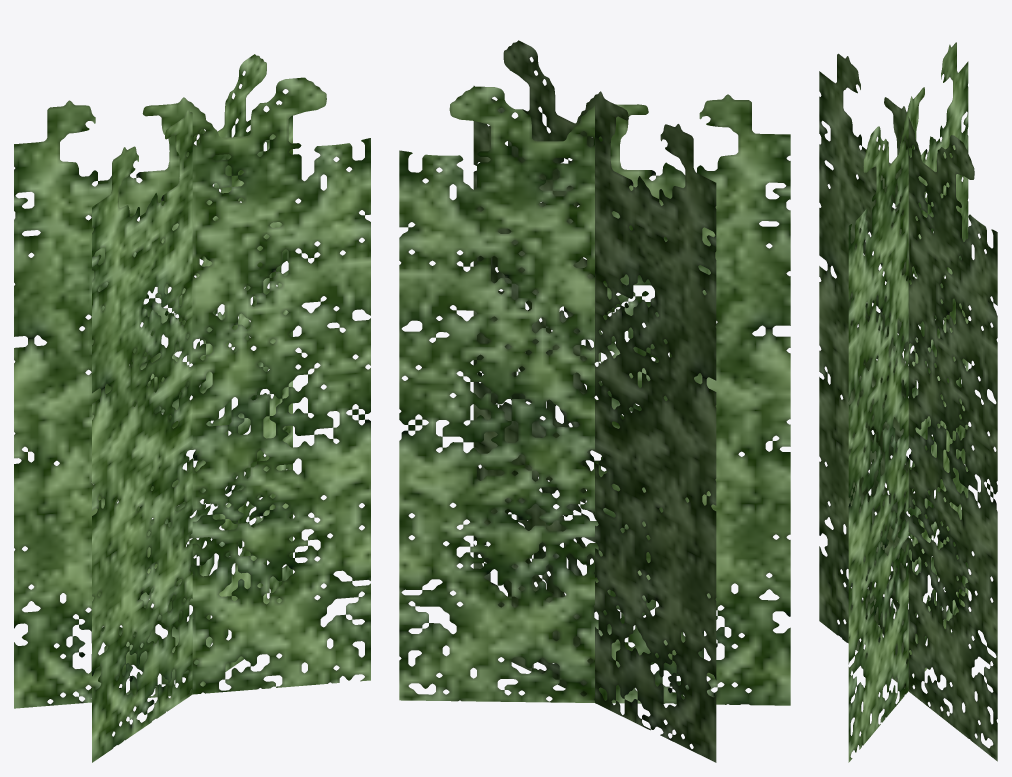
File: bush_tall_half_overgrown_summer.fbx
The picture shows the model from 3 angles, left to right: view 1: azimuth 30°, elevation 25°; view 2: azimuth 150°, elevation 25°; view 3: azimuth 270°, elevation 25°; orthographic projection. The views are drawn at different scales.
Parts seen in each view (by area): view 1: bush_tall_half_overgrown_summer; view 2: bush_tall_half_overgrown_summer; view 3: bush_tall_half_overgrown_summer.
Part boxes in pixels (left/top/right/bottom): bush_tall_half_overgrown_summer: left=14, top=54, right=370, bottom=762; bush_tall_half_overgrown_summer: left=399, top=40, right=790, bottom=762; bush_tall_half_overgrown_summer: left=819, top=42, right=997, bottom=762.
Size of the model in its own units: 105 by 206 by 54.93.
1 material, 1 textured.
